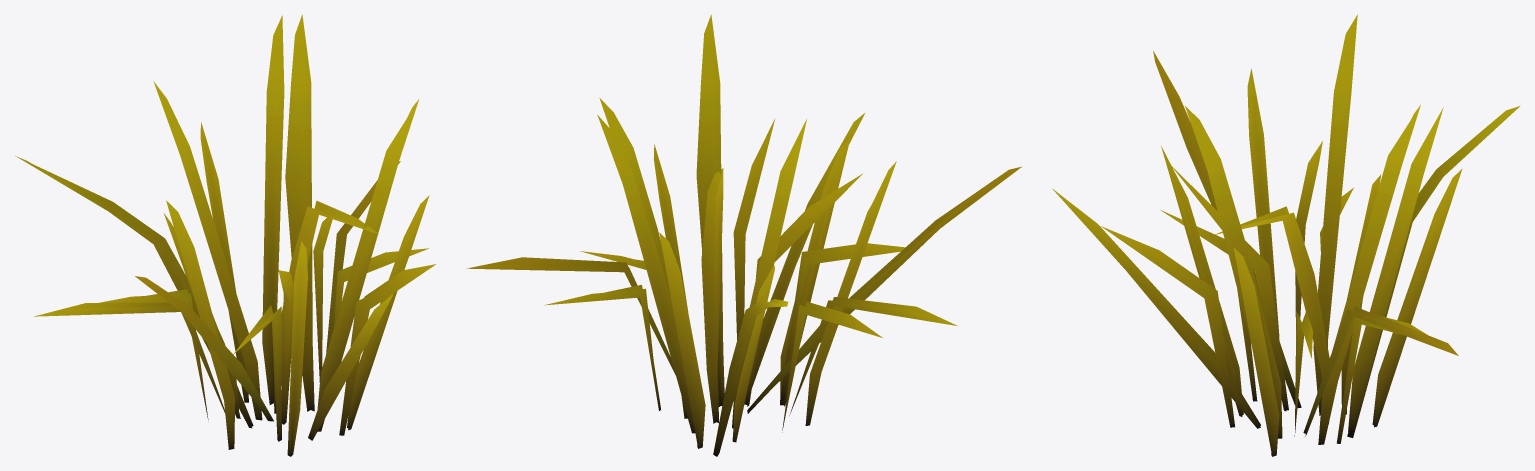
Rendered from Grass_Wispy_Short.gltf.
3 renders of one model, left to right at view 1: azimuth 30°, elevation 25°; view 2: azimuth 150°, elevation 25°; view 3: azimuth 270°, elevation 25°, orthographic. The views are drawn at different scales.
Parts seen in each view (by area): view 1: Grass_Wispy_Short; view 2: Grass_Wispy_Short; view 3: Grass_Wispy_Short.
Part boxes in pixels (x1,y1,x2,y2): Grass_Wispy_Short: (15,14,436,456); Grass_Wispy_Short: (467,14,1021,456); Grass_Wispy_Short: (1052,14,1519,456).
Bounding box in the file's own units: 1.32 × 1.07 × 1.21.
Materials: 1 (1 with a texture image).
